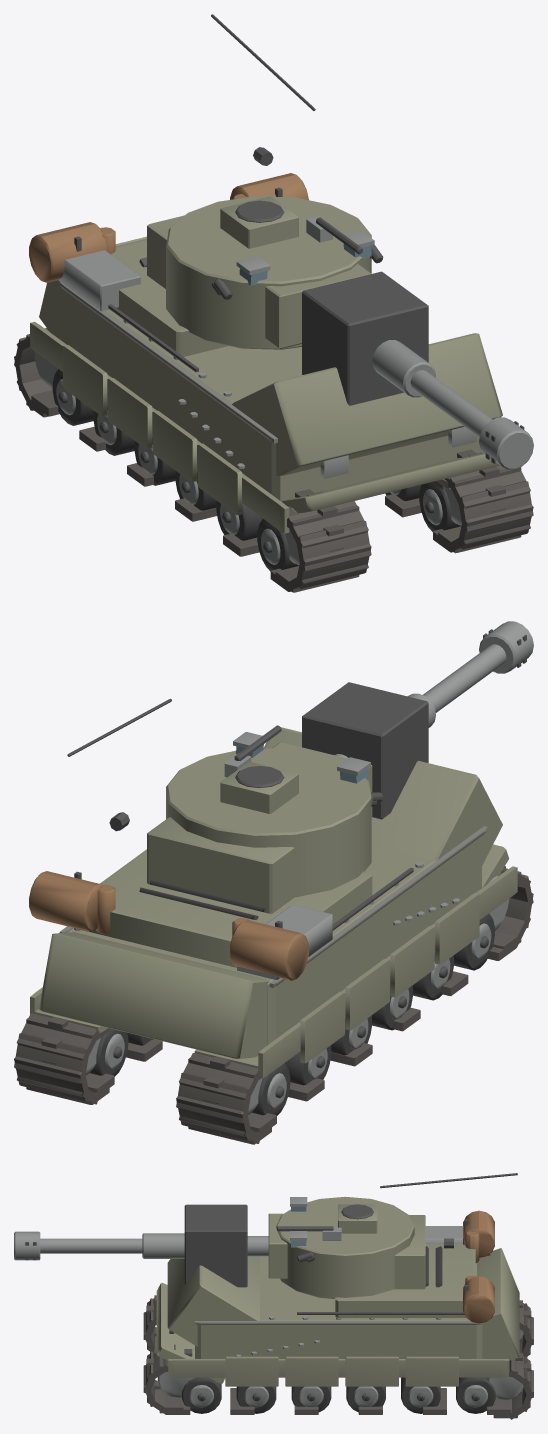
File: rys.glb
The picture shows the model from 3 angles, top to bottom: view 1: azimuth 30°, elevation 25°; view 2: azimuth 150°, elevation 25°; view 3: azimuth 270°, elevation 25°; orthographic projection. The views are drawn at different scales.
Visible parts, largest first — view 1: Hull, Turret, Barrel; view 2: Hull, Turret, Barrel; view 3: Hull, Turret, Barrel.
Boxes of the visible parts, x1=… form: Hull: x1=14, y1=173, x2=533, y2=592; Turret: x1=147, y1=14, x2=383, y2=349; Barrel: x1=302, y1=271, x2=533, y2=469; Hull: x1=14, y1=727, x2=533, y2=1144; Turret: x1=67, y1=698, x2=383, y2=913; Barrel: x1=302, y1=621, x2=533, y2=819; Hull: x1=143, y1=1210, x2=533, y2=1419; Turret: x1=268, y1=1173, x2=517, y2=1298; Barrel: x1=14, y1=1204, x2=268, y2=1287.
Size of the model in its own units: 3.16 by 4.08 by 8.25.
